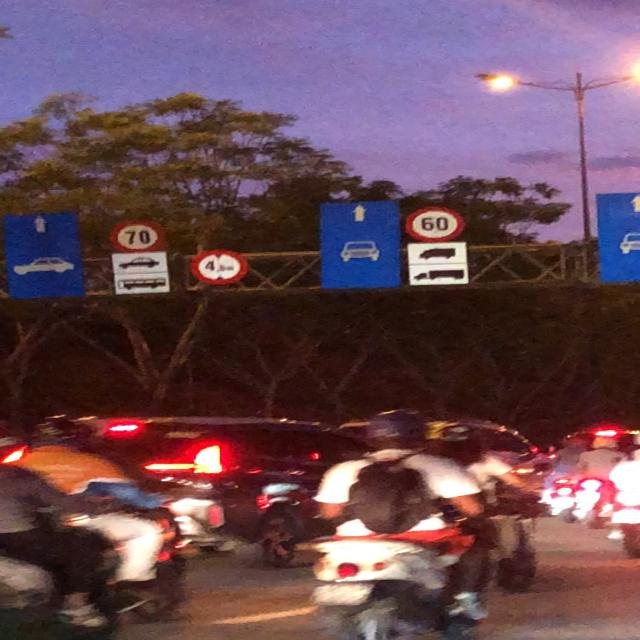Bien bao han che chieu cao: (188, 248, 252, 288)
Bien bao toc do toi da cho phep: (105, 216, 173, 253), (398, 207, 469, 241)
